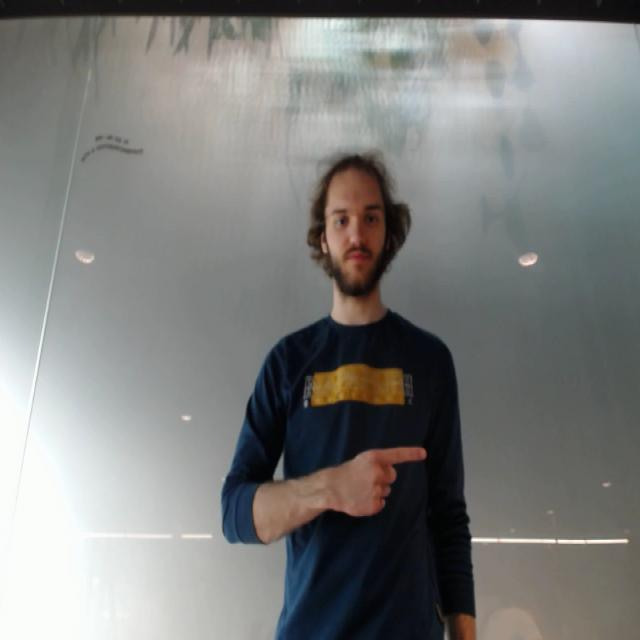right: (335, 445, 440, 520)
